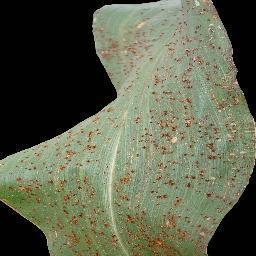Corn_Common_Rust: (89, 0, 256, 256), (0, 116, 90, 256)
